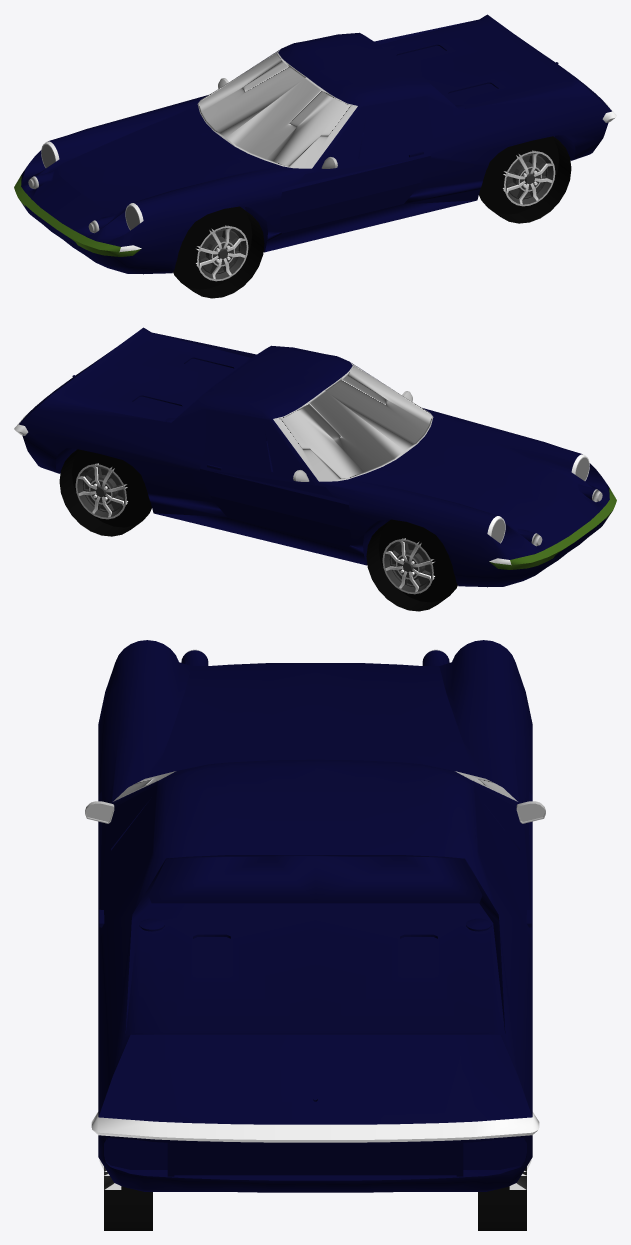
File: 1973+Lotus+Europe+Twin+Cam+Special.fbx
3 renders of one model, top to bottom at view 1: azimuth 30°, elevation 25°; view 2: azimuth 150°, elevation 25°; view 3: azimuth 270°, elevation 25°, orthographic. The views are drawn at different scales.
Parts seen in each view (by area): view 1: Component_1_1, Group3, Component_1_2, Group12, Group26, Group13, Group25, Group11, Group24, Group1, Group5, Group6 (+3 smaller); view 2: Component_1_2, Group16, Component_1_1, Group25, Group13, Group26, Group12, Group24, Group11, Group14, Group18, Group19 (+3 smaller); view 3: Component_1_1, Component_1_2, Group11, Group24, Group13, Group26, Group3, Group16, Group9, Group22, Group5, Group18.
Boxes of the visible parts, x1=… form: Component_1_1: x1=51, y1=58, x2=611, y2=274; Group3: x1=279, y1=96, x2=430, y2=233; Component_1_2: x1=21, y1=14, x2=560, y2=238; Group12: x1=224, y1=77, x2=357, y2=168; Group26: x1=55, y1=113, x2=211, y2=193; Group13: x1=82, y1=143, x2=257, y2=214; Group25: x1=197, y1=49, x2=305, y2=138; Group11: x1=423, y1=48, x2=594, y2=105; Group24: x1=387, y1=22, x2=556, y2=77; Group1: x1=173, y1=206, x2=264, y2=298; Group5: x1=479, y1=136, x2=571, y2=223; Group6: x1=504, y1=151, x2=555, y2=206; Component_1_2: x1=19, y1=371, x2=579, y2=587; Group16: x1=200, y1=409, x2=351, y2=546; Component_1_1: x1=70, y1=327, x2=609, y2=551; Group25: x1=273, y1=390, x2=406, y2=481; Group13: x1=419, y1=426, x2=575, y2=506; Group26: x1=373, y1=456, x2=548, y2=527; Group12: x1=325, y1=362, x2=433, y2=451; Group24: x1=36, y1=361, x2=207, y2=418; Group11: x1=74, y1=335, x2=243, y2=390; Group14: x1=366, y1=519, x2=457, y2=611; Group18: x1=59, y1=449, x2=151, y2=536; Group19: x1=75, y1=464, x2=126, y2=519; Component_1_1: x1=98, y1=640, x2=315, y2=1192; Component_1_2: x1=315, y1=640, x2=532, y2=1192; Group11: x1=169, y1=917, x2=315, y2=1115; Group24: x1=315, y1=917, x2=461, y2=1115; Group13: x1=161, y1=664, x2=315, y2=761; Group26: x1=315, y1=664, x2=469, y2=761; Group3: x1=98, y1=785, x2=156, y2=939; Group16: x1=474, y1=785, x2=532, y2=939; Group9: x1=91, y1=1112, x2=315, y2=1142; Group22: x1=315, y1=1112, x2=539, y2=1142; Group5: x1=104, y1=1186, x2=152, y2=1230; Group18: x1=478, y1=1186, x2=526, y2=1230.
Size of the model in its own units: 4.26 by 1.17 by 1.62.
